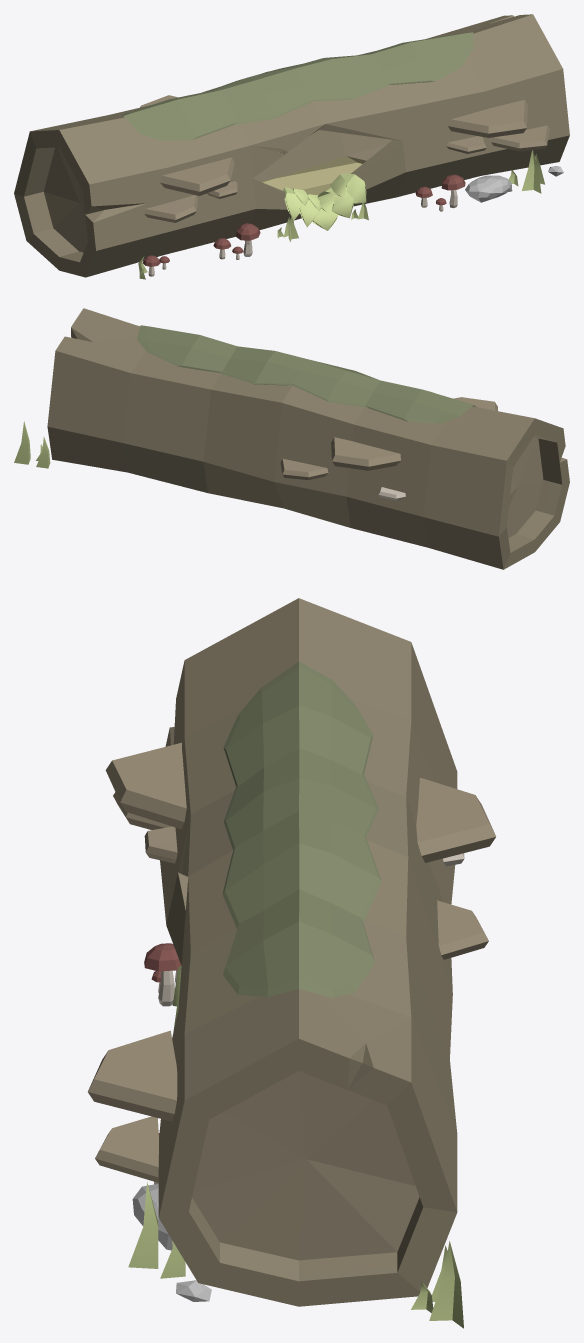
File: MushDwelling.fbx
3 renders of one model, top to bottom at view 1: azimuth 30°, elevation 25°; view 2: azimuth 150°, elevation 25°; view 3: azimuth 270°, elevation 25°, orthographic. The views are drawn at different scales.
Parts seen in each view (by area): view 1: MushsDwellingMeshFix; view 2: MushsDwellingMeshFix; view 3: MushsDwellingMeshFix.
Boxes of the visible parts, <box> form: MushsDwellingMeshFix: <box>14,14,569,279</box>; MushsDwellingMeshFix: <box>14,308,569,569</box>; MushsDwellingMeshFix: <box>88,598,496,1328</box>.
Bounding box in the file's own units: 11.85 × 3.24 × 4.34.
